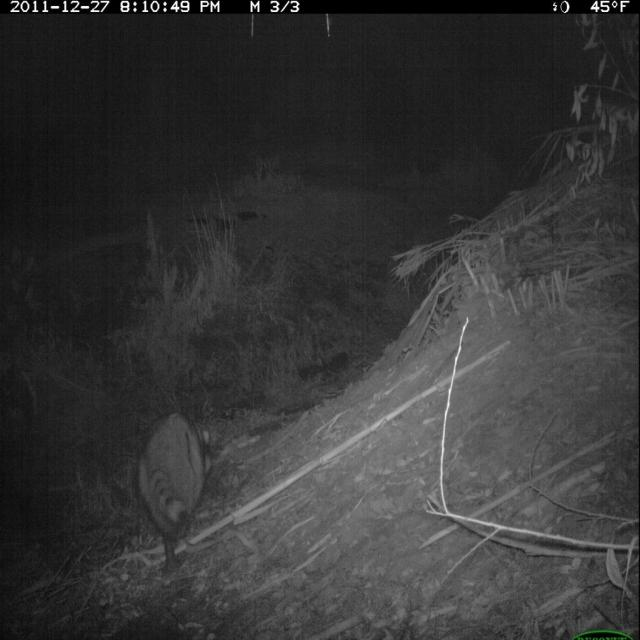raccoon: (133, 399, 218, 583)
